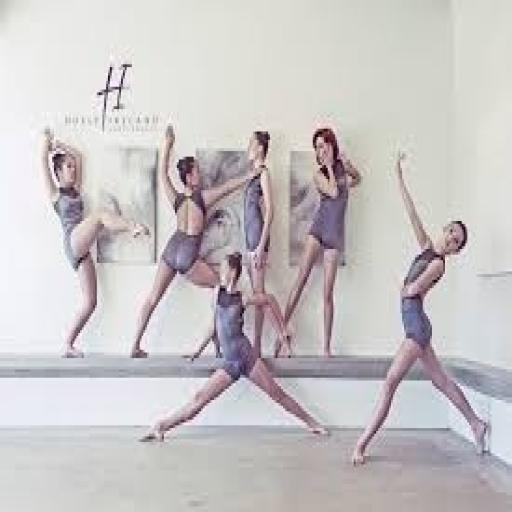dancing: (350, 146, 493, 470), (138, 246, 331, 448), (128, 120, 259, 364), (35, 123, 153, 364), (274, 123, 363, 361)
